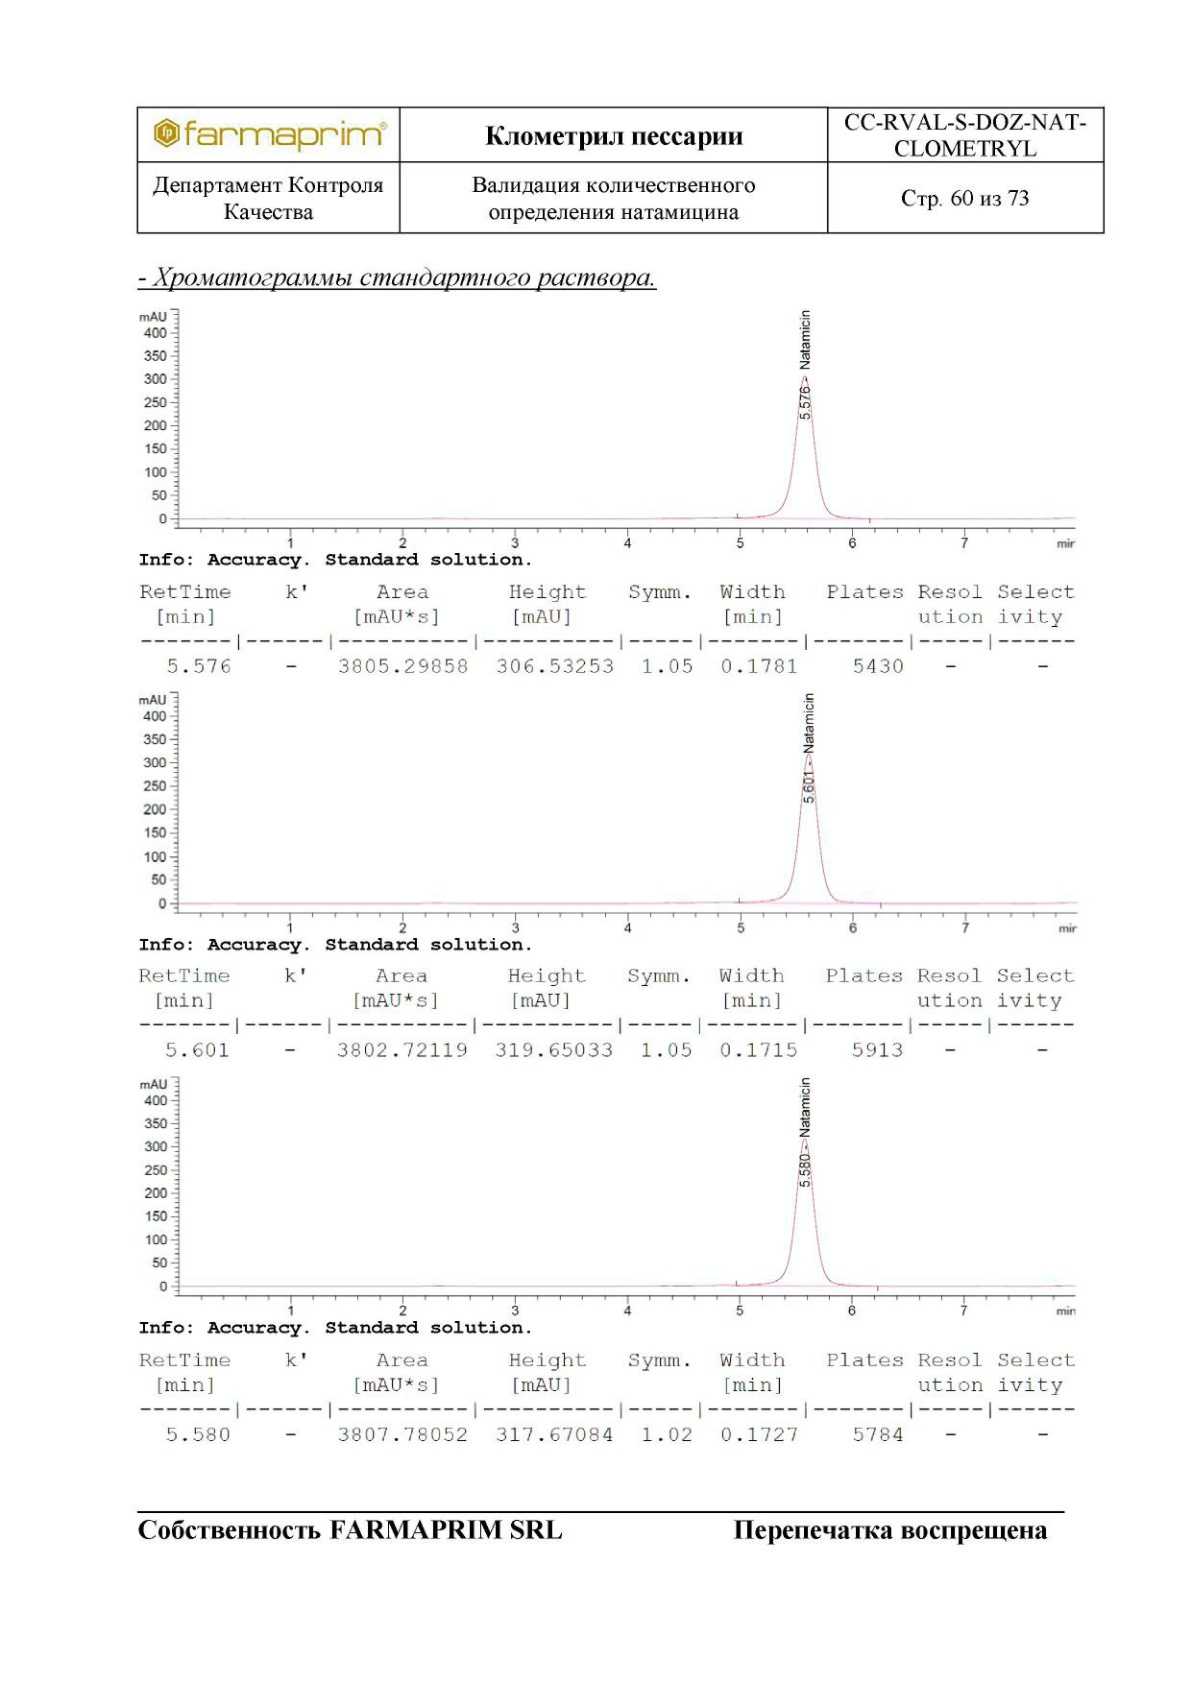full_lined: (133, 104, 1108, 236)
partial_lined: (135, 1347, 1077, 1451), (135, 579, 1077, 681), (137, 964, 1077, 1062)
